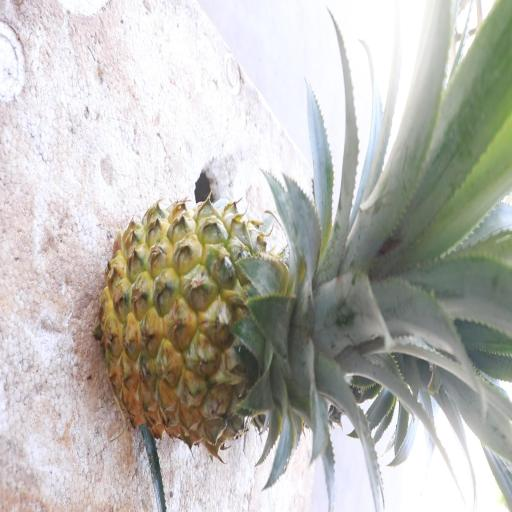Pineapple - v8 v1: (96, 189, 374, 468)
